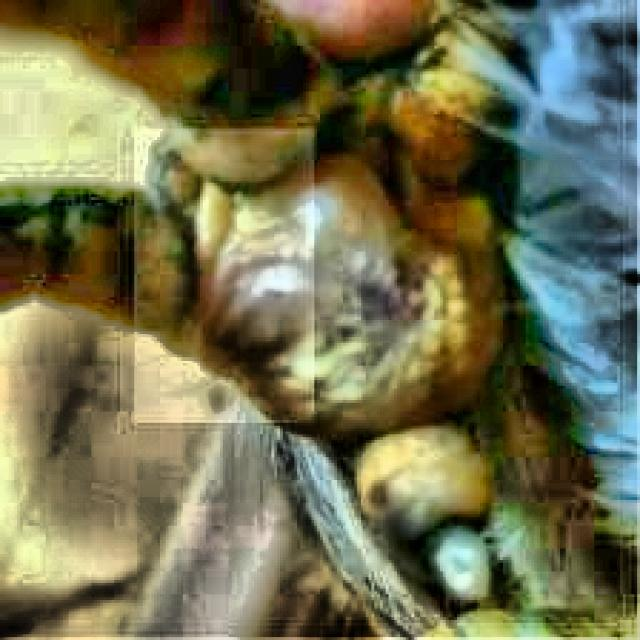Bumble foot: (207, 140, 532, 480)
